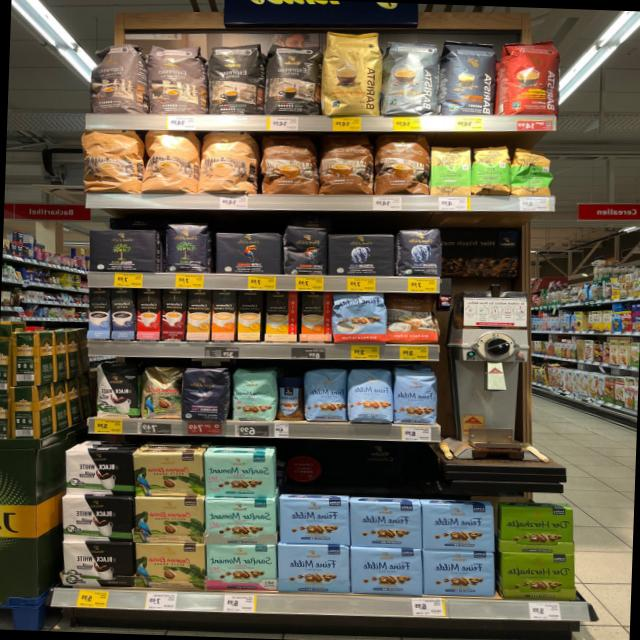AB Bohne: (395, 224, 443, 278)
AB Gemahlen: (327, 232, 395, 278)
Athiopien Bohne: (509, 146, 553, 198), (470, 142, 512, 195)
Athiopien Gemahlen: (428, 144, 472, 197)
BM Bohne: (162, 220, 210, 274)
BM Gemahlen: (86, 226, 158, 274)
BW Bohne: (94, 362, 140, 417)
BW Gemahlen: (59, 540, 134, 588), (59, 495, 134, 543), (62, 448, 134, 496)
Barista CB: (320, 30, 381, 116)
Barista CC: (380, 39, 440, 116)
Barista Espresso: (439, 39, 497, 116)
Barista Kolumbien: (497, 35, 561, 116)
C Fino Bohne: (180, 367, 230, 422)
CC Mild: (78, 128, 140, 194), (140, 128, 198, 196), (197, 130, 255, 194)
CC Vollmundig: (386, 294, 438, 344)
CC Vollmundig 36 Pads: (258, 131, 318, 197), (372, 130, 431, 196), (317, 130, 373, 194)
Colombia BB Bohne: (140, 365, 182, 419)
Colombia BB Gemahlen: (132, 495, 205, 544), (133, 542, 205, 590), (132, 451, 202, 498)
Espresso Kraftig: (206, 40, 263, 115), (262, 44, 320, 116)
Espresso M Art: (86, 36, 144, 114), (146, 40, 205, 116)
FM 36 Pads: (332, 292, 386, 344)
FM Bohne: (347, 366, 393, 424), (392, 369, 438, 426), (304, 365, 348, 423)
FM Gemahlen: (276, 542, 350, 594), (421, 502, 495, 552), (349, 546, 422, 596), (276, 496, 350, 544), (348, 501, 422, 548), (422, 550, 496, 596)
FM Instant: (276, 374, 305, 422)
Herzhatfe Mundig: (501, 551, 576, 601), (498, 506, 574, 554)
LG Bohne: (282, 221, 328, 277)
LG Gemahlen: (212, 230, 282, 276)
SM Bohne: (231, 369, 276, 421)
SM Gemahlen: (202, 495, 276, 546), (205, 542, 278, 592), (202, 450, 274, 498)
Simo CCMild: (264, 290, 298, 340)
Simo CCMild bigpack: (237, 289, 261, 340)
Simo CCVollmundig: (300, 291, 332, 341)
Simo CCVollmundig bigpack: (211, 289, 236, 340)
Simo Decaff: (186, 288, 210, 339)
Simo Es Brazil: (136, 288, 161, 340)
Simo Es Caramel: (160, 288, 184, 339)
Simo Es Kraft: (111, 287, 133, 339)
Simo Es Vanilla: (86, 287, 110, 338)
